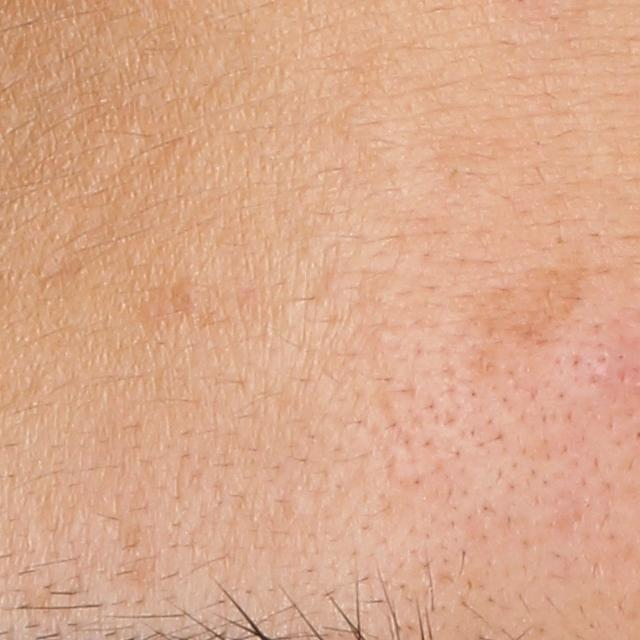comedo: (171, 279, 200, 307), (374, 323, 398, 349)
